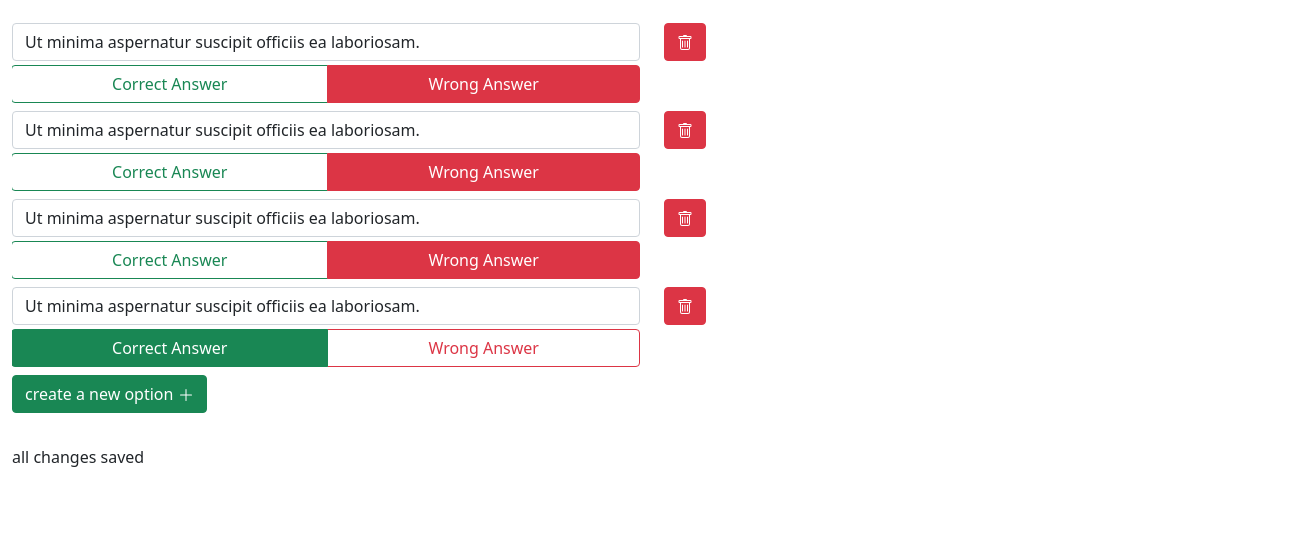
Test: check update feature › user can create an option and update
Check: the text "all changes saved" is shown, box [12, 446, 144, 468]
Note: create new option
Step 1. Click the button "create a new option" → click(109, 394), box [12, 375, 207, 413]
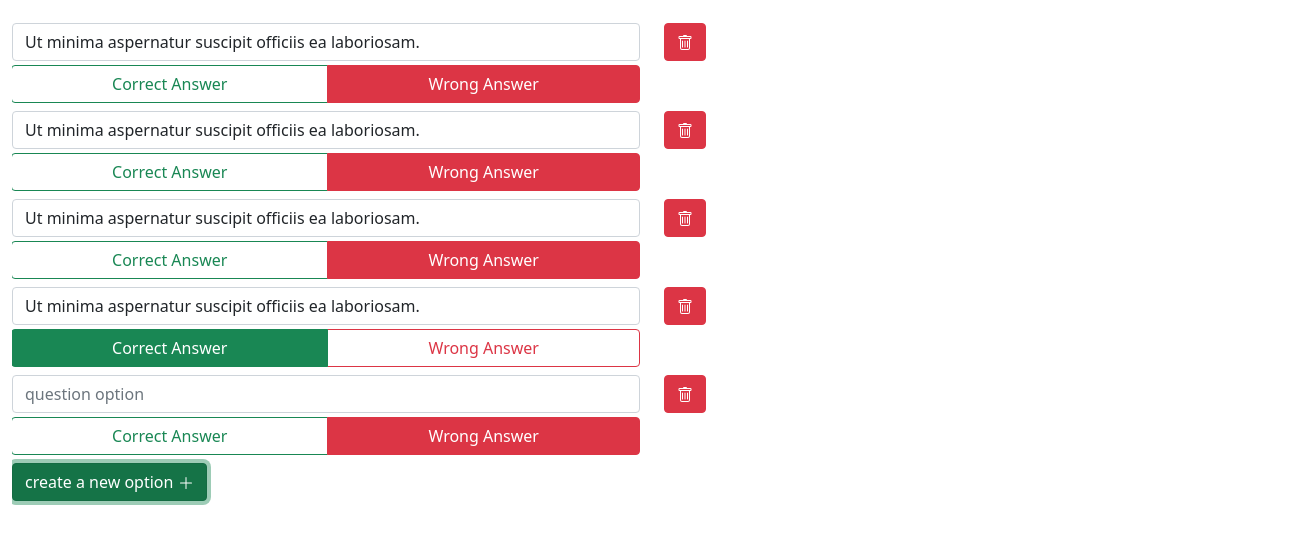
Step 2. Type "option 1 option 1" into the field labelled "question option" → (326, 394), box [12, 375, 640, 413]
(page scrolled)
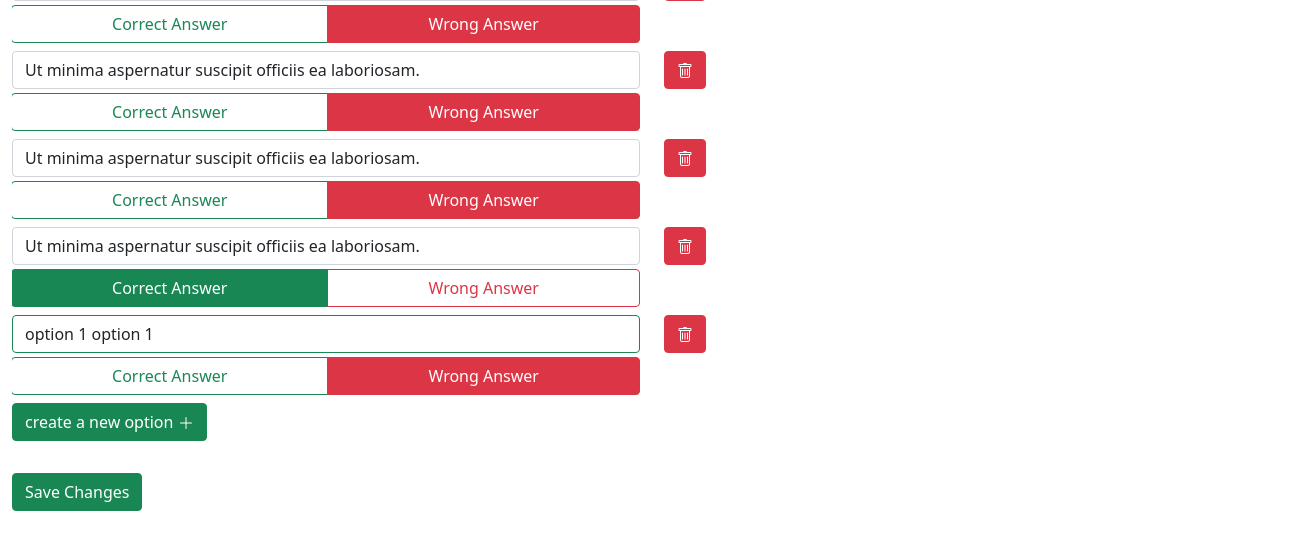
Step 3. Click the button "Save Changes" → click(77, 492), box [12, 473, 142, 511]
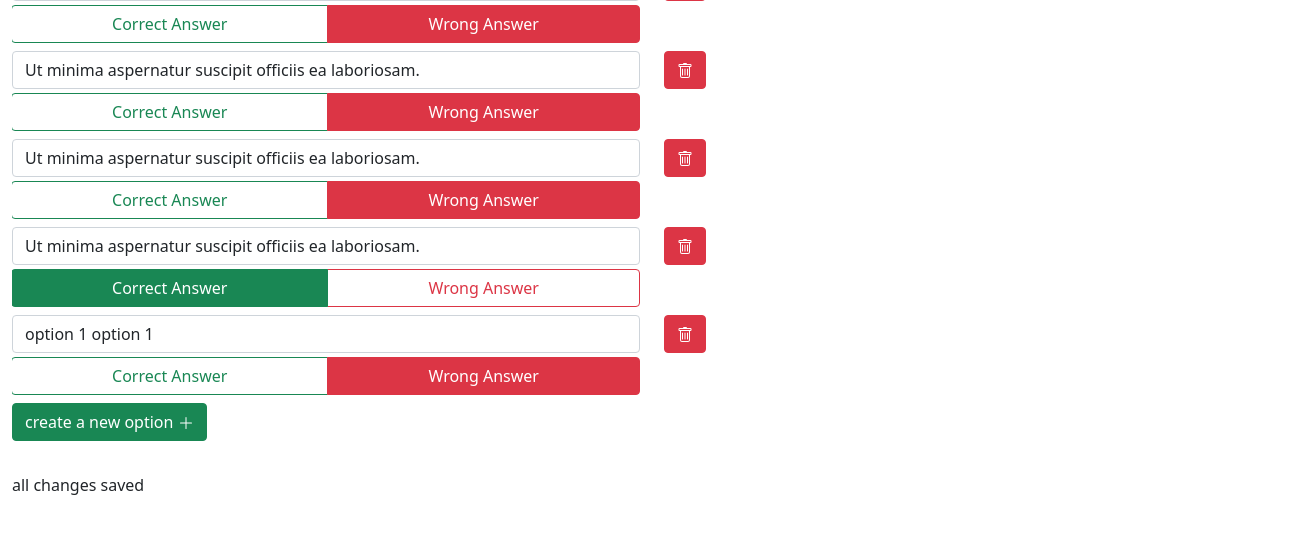
Check: the text "all changes saved" is shown, box [12, 474, 144, 496]
Check: the button "Save Changes" is gone
